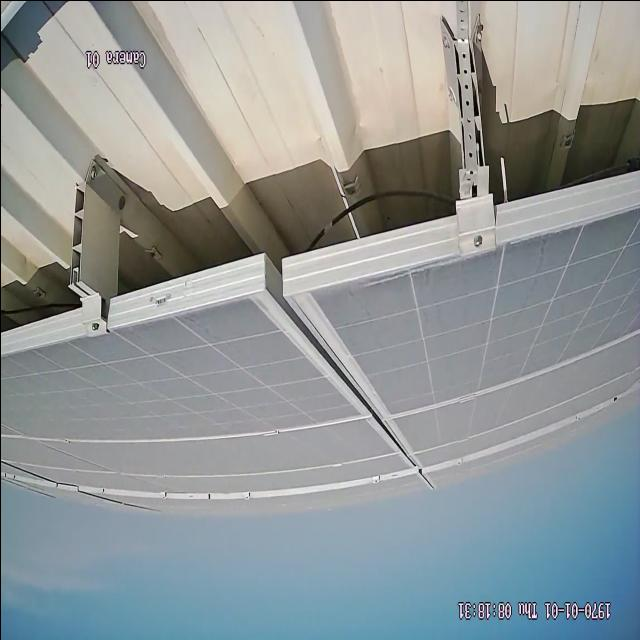interior panel: (264, 296, 421, 466)
outher panel: (0, 0, 640, 356)
